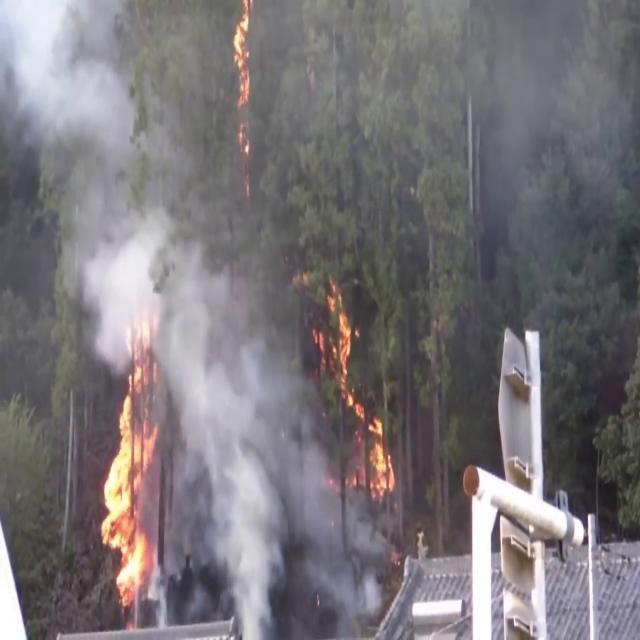Fire: (312, 274, 392, 506), (95, 360, 163, 608), (232, 4, 254, 167)
Smoke: (0, 0, 218, 354), (162, 300, 384, 640), (468, 1, 640, 347)
